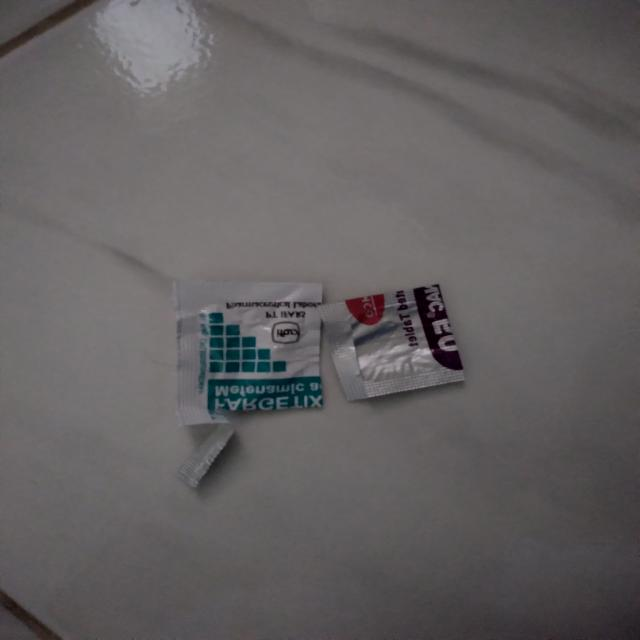B3: (103, 246, 464, 487)
obat: (173, 280, 464, 482)
